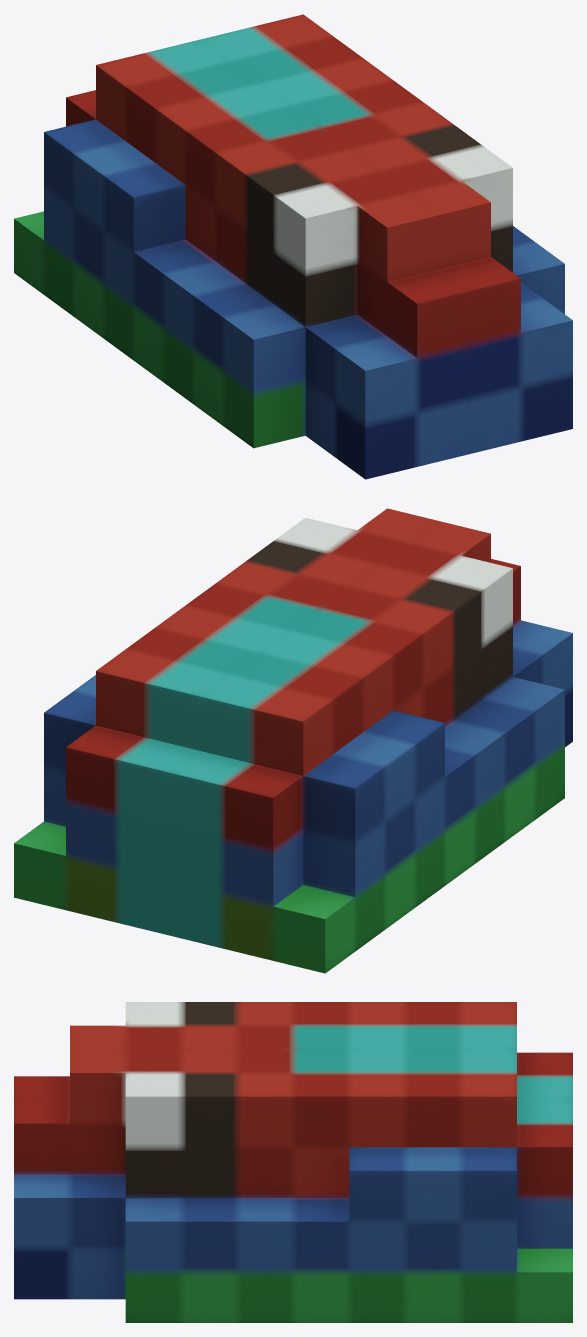
Rendered from garter_head.FBX.
3 renders of one model, top to bottom at view 1: azimuth 30°, elevation 25°; view 2: azimuth 150°, elevation 25°; view 3: azimuth 270°, elevation 25°, orthographic. The views are drawn at different scales.
Parts seen in each view (by area): view 1: garter_head; view 2: garter_head; view 3: garter_head.
Part boxes in pixels (x1,y1,x2,y2): garter_head: [14, 14, 572, 479]; garter_head: [14, 508, 572, 973]; garter_head: [14, 1002, 572, 1322].
Bounding box in the file's own units: 600 × 400 × 1000.
